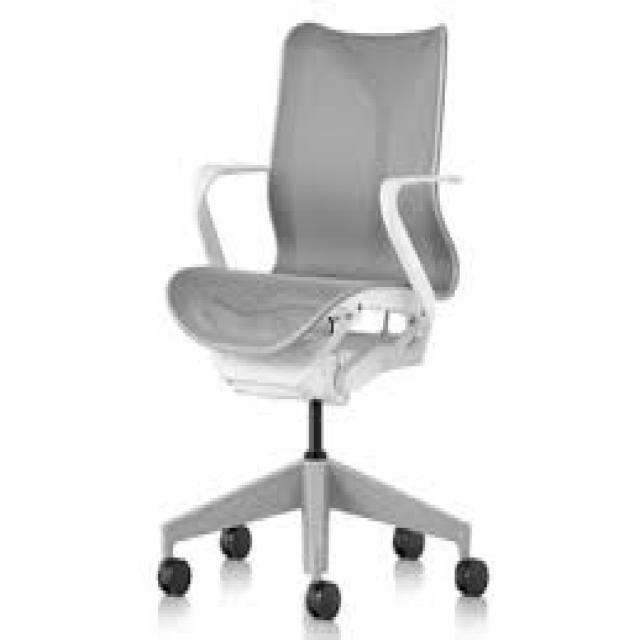chair: (102, 2, 513, 640)
